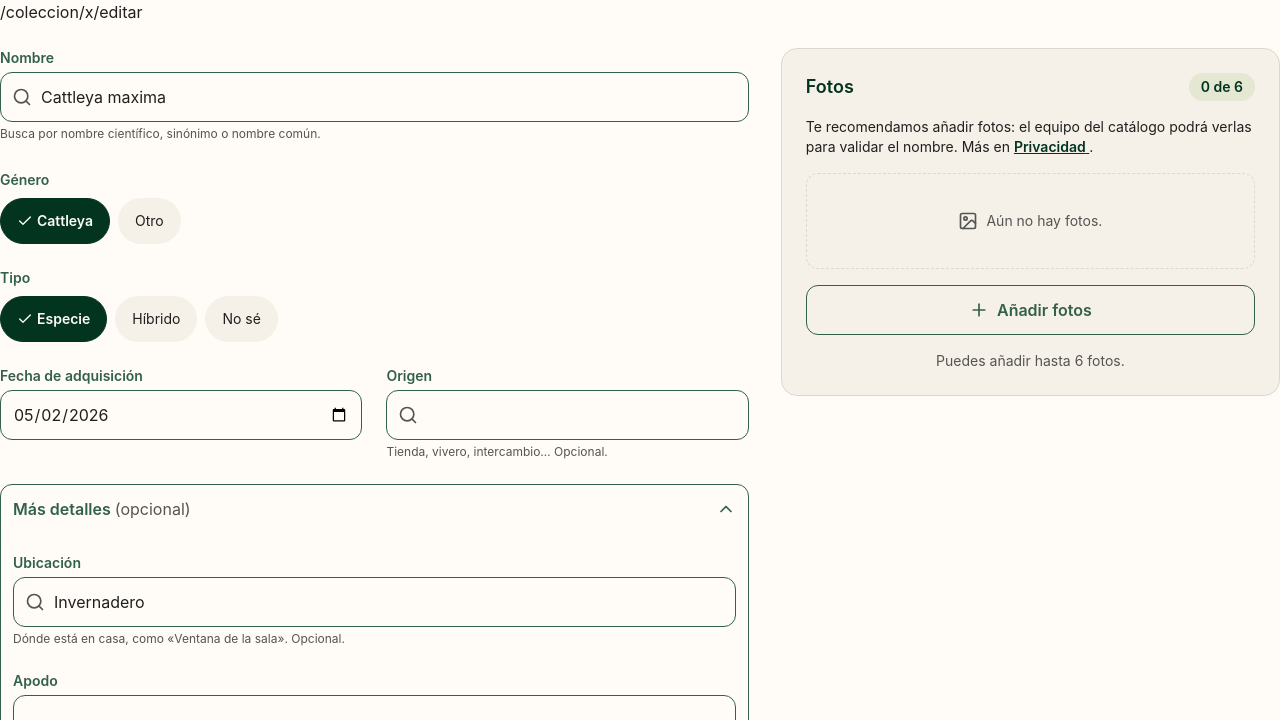
Test: EditPlantForm › un enlace de la app con cambios pregunta; al confirmar, navega
Type "x" into the dropdown labelled "Ubicación".
click(374, 602); type("x")  # box left=13, top=577, right=736, bottom=627
(page scrolled)
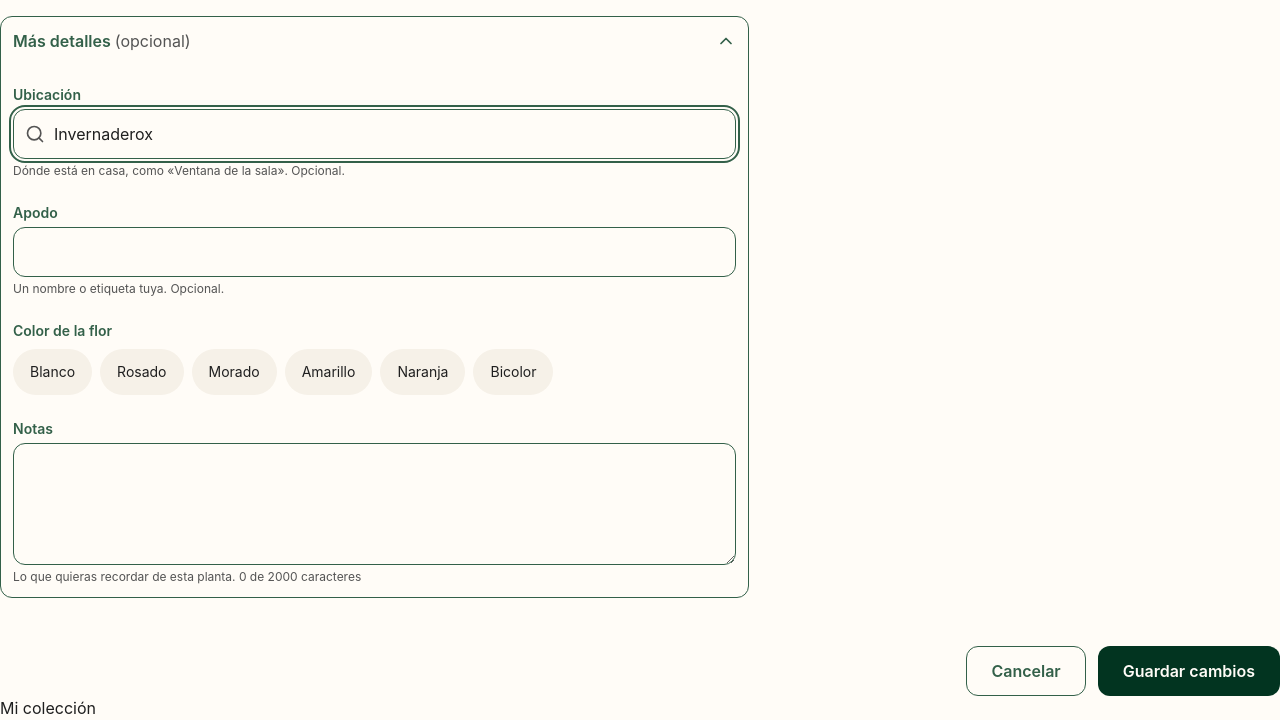
Click the link "Mi colección".
click(48, 708)  # box left=0, top=698, right=96, bottom=718
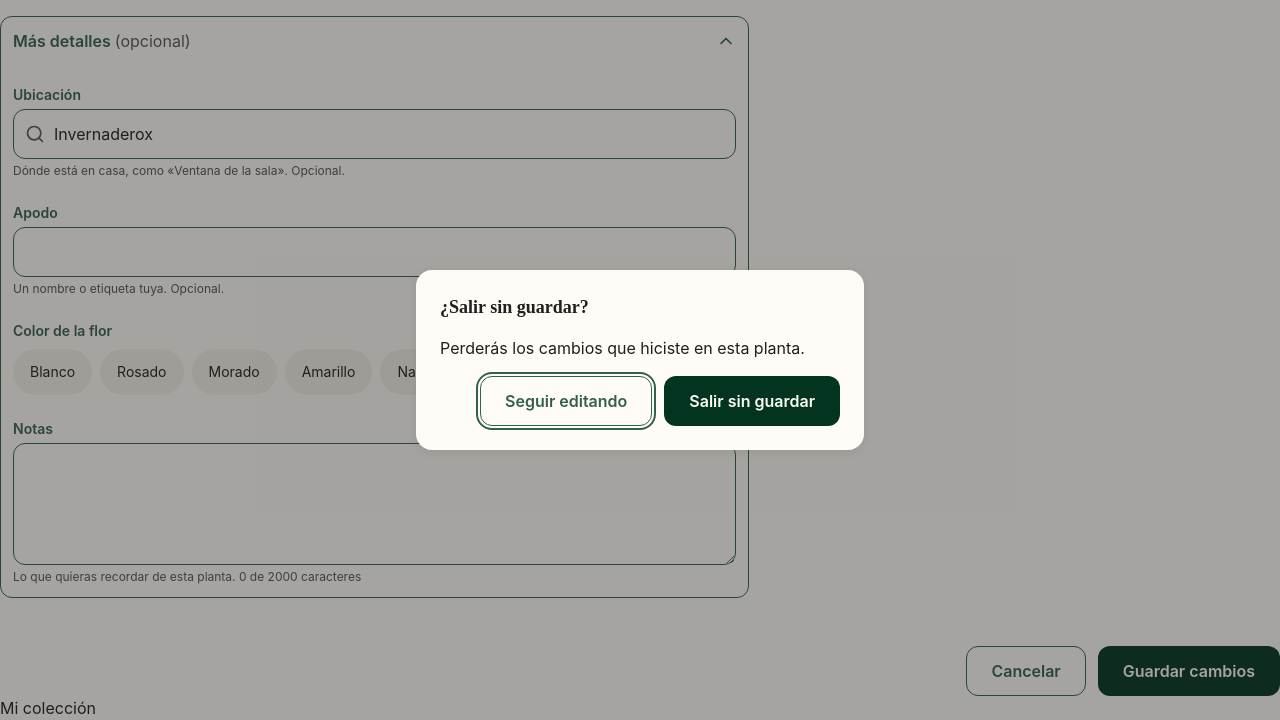
Result: the dialog "¿Salir sin guardar?" is shown at left=416, top=270, right=864, bottom=450
Click the button "Salir sin guardar".
click(752, 401)  # box left=664, top=376, right=840, bottom=426
(page scrolled)
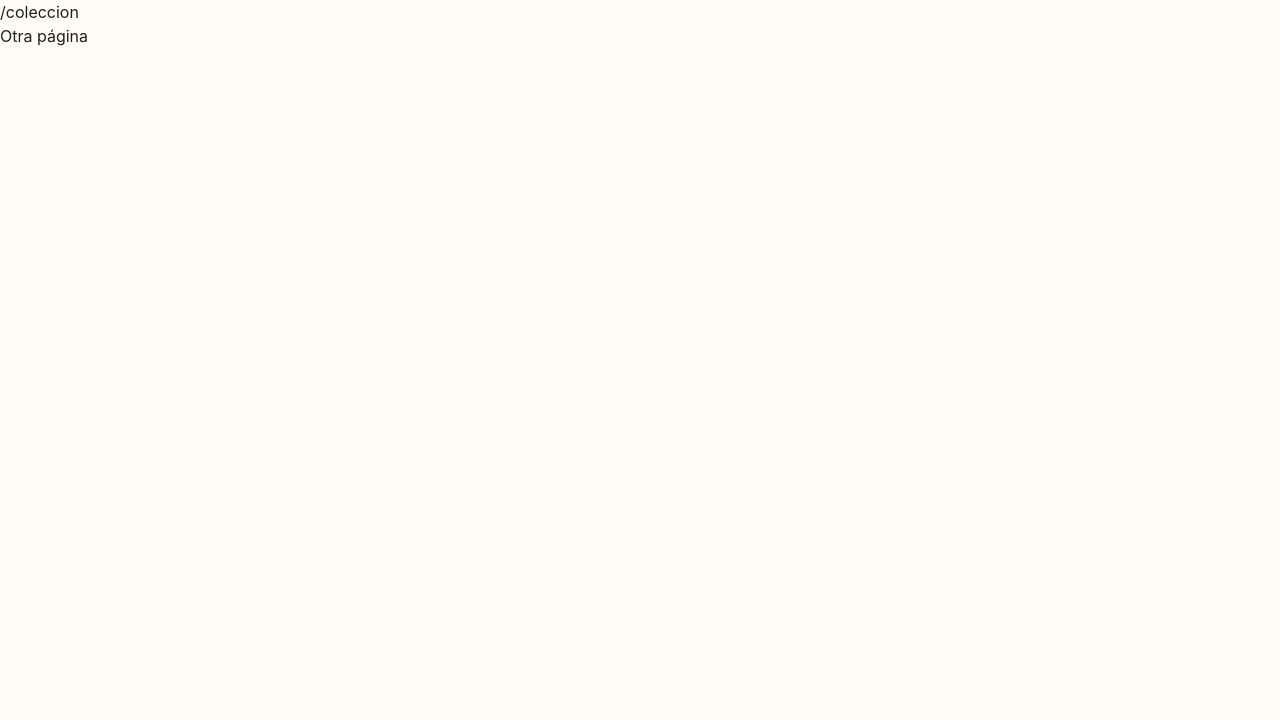
Result: the text with test id "location" reads "/coleccion" at left=0, top=2, right=79, bottom=22
